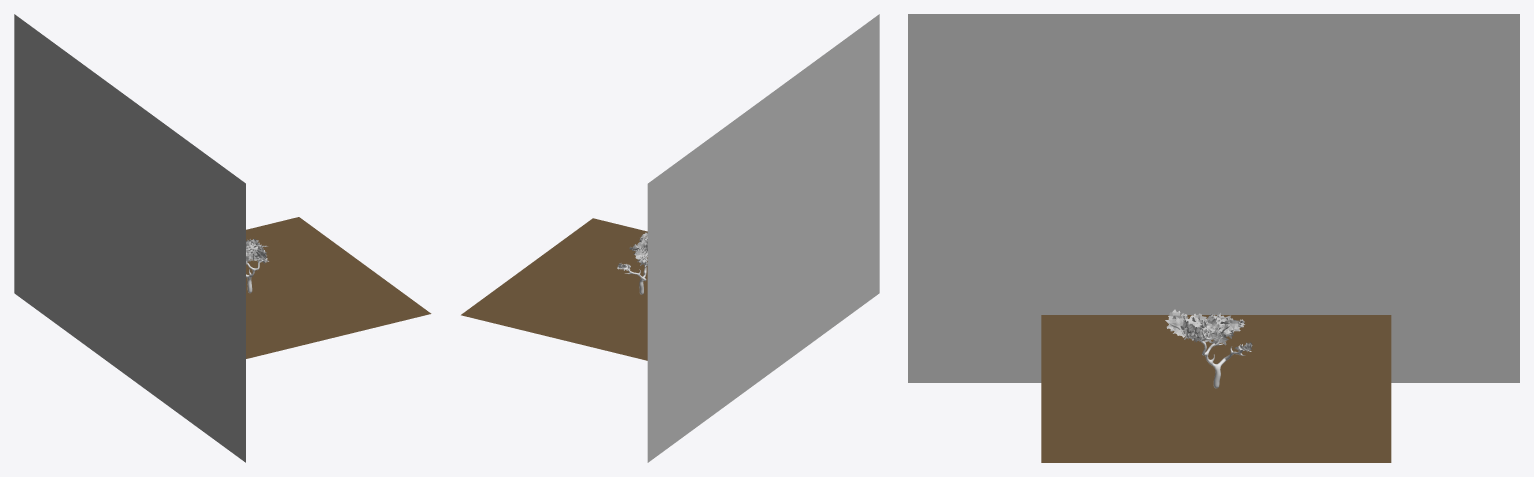
The model's file is acacia tree finale.fbx.
3 views of the same model, side by side, from view 1: azimuth 30°, elevation 25°; view 2: azimuth 150°, elevation 25°; view 3: azimuth 270°, elevation 25° (orthographic). The views are drawn at different scales.
Parts seen in each view (by area): view 1: Safari-GettyImages-143917249, Plane; view 2: Safari-GettyImages-143917249, Plane; view 3: Safari-GettyImages-143917249, Plane.
Boxes of the visible parts, x1,y1,x2,y2 form: Safari-GettyImages-143917249: [14, 14, 245, 462]; Plane: [246, 217, 431, 358]; Safari-GettyImages-143917249: [647, 14, 879, 462]; Plane: [461, 218, 647, 360]; Safari-GettyImages-143917249: [908, 14, 1519, 382]; Plane: [1041, 315, 1391, 462].
Size of the model in its own units: 16715 by 18906 by 28419.
